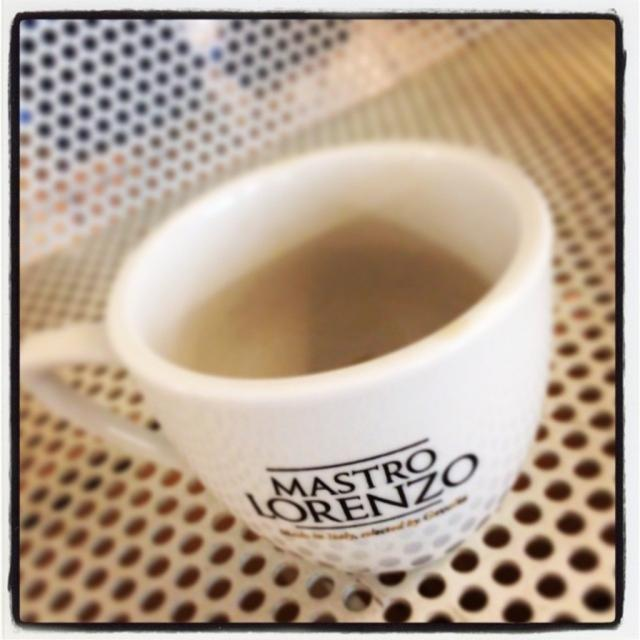Tea: (158, 215, 484, 379)
